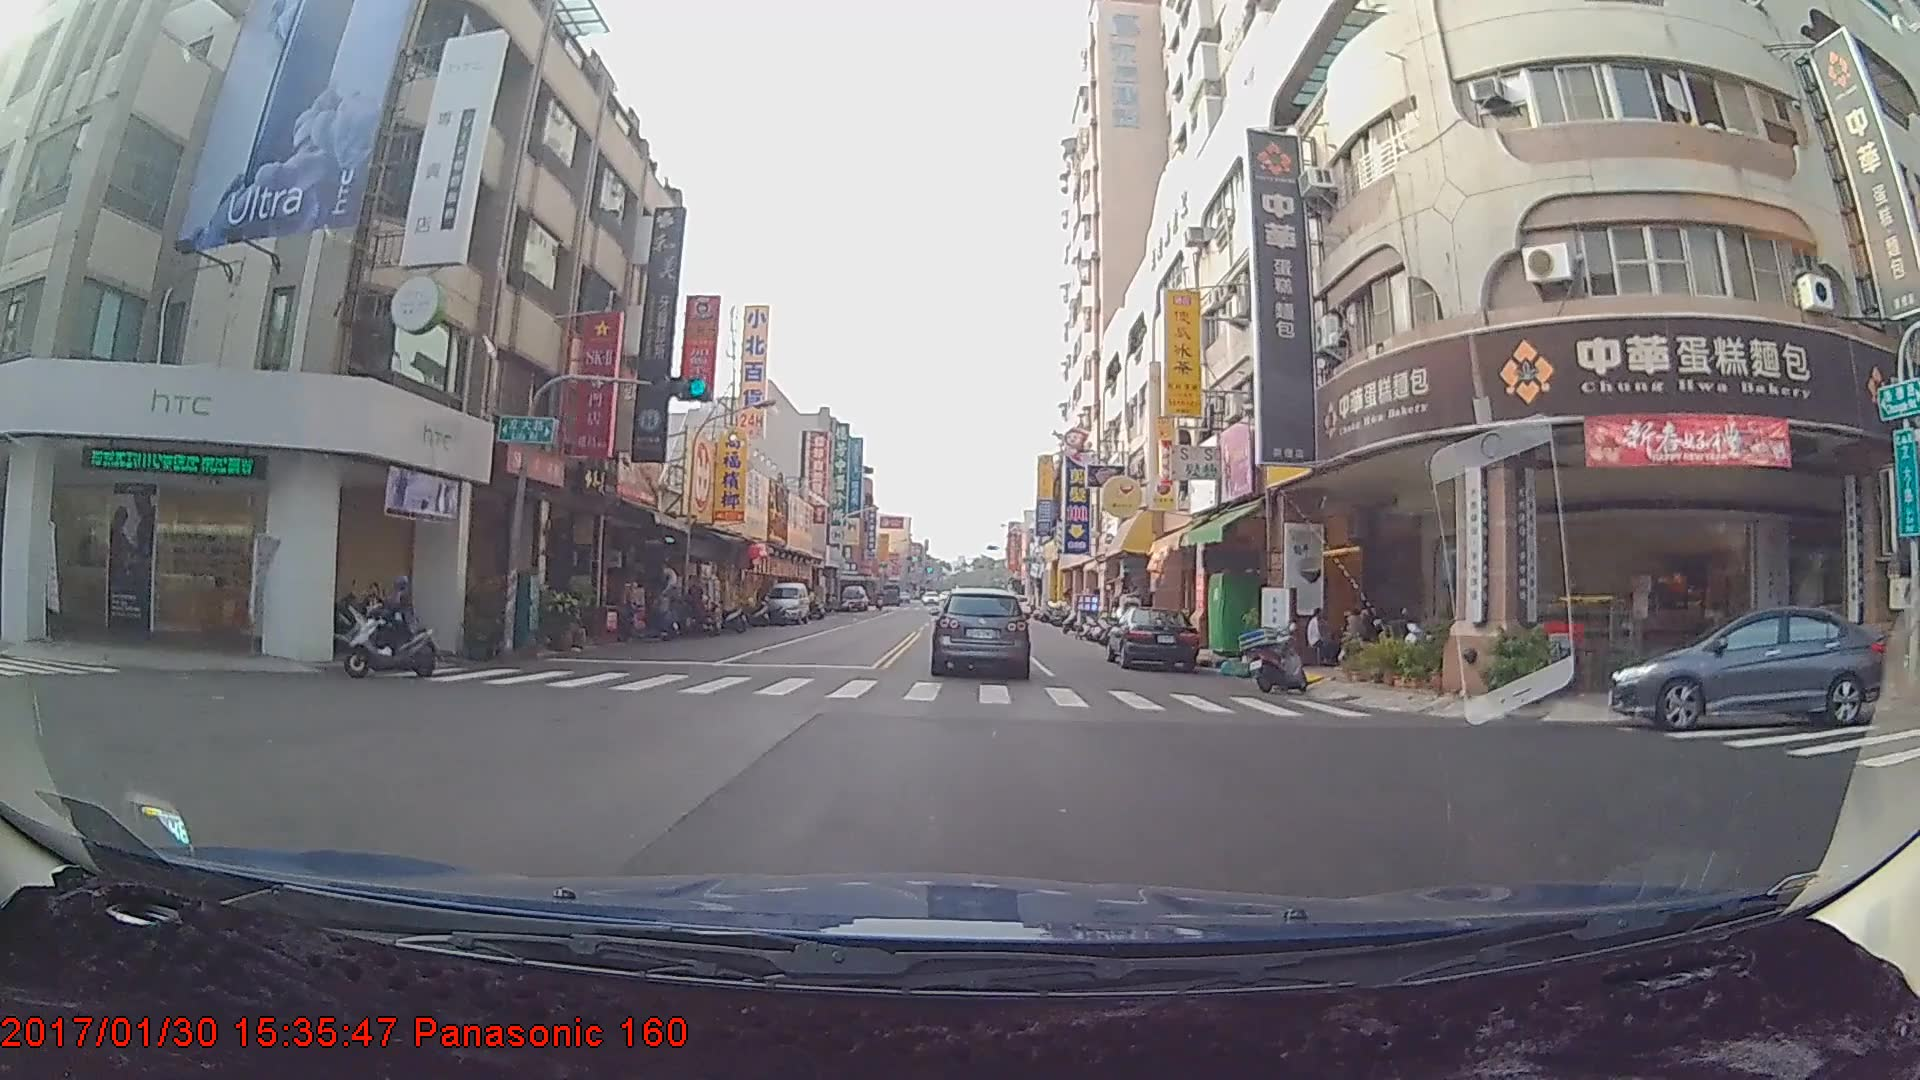pedestrian: (1302, 601, 1333, 662), (1338, 602, 1367, 662)
rider: (338, 567, 439, 679)
vehicle: (1613, 604, 1885, 733), (930, 589, 1030, 678), (1107, 604, 1199, 670), (759, 577, 810, 621), (840, 583, 868, 611)
